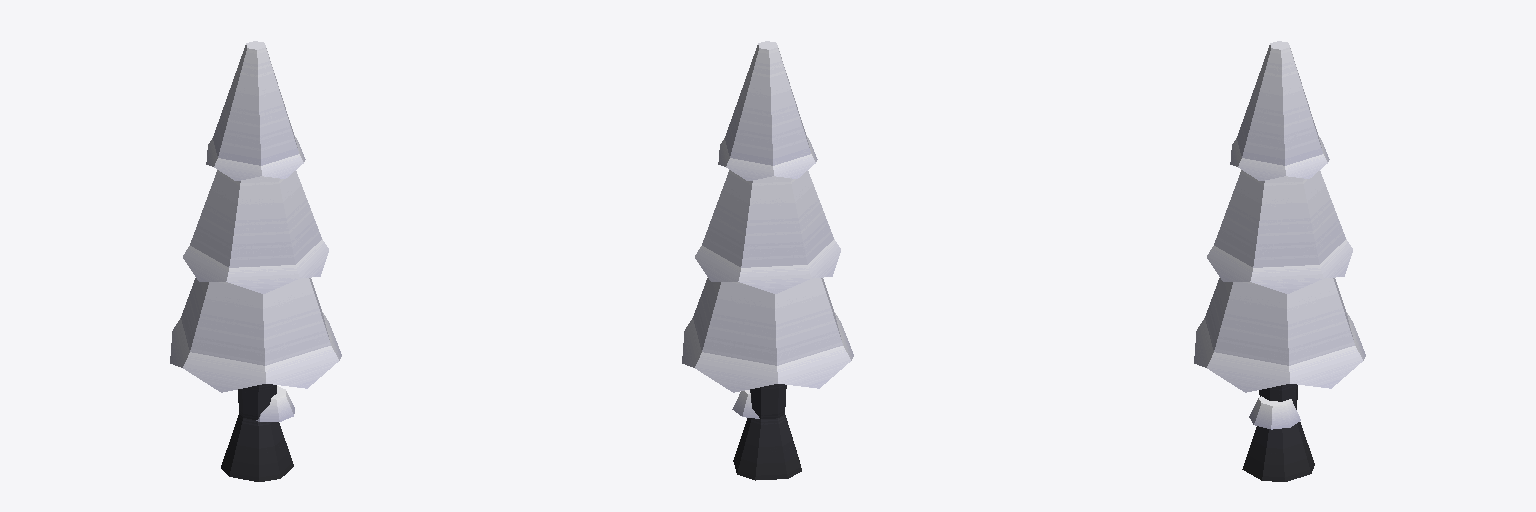
The picture shows the model from 3 angles: view 1: azimuth 30°, elevation 25°; view 2: azimuth 150°, elevation 25°; view 3: azimuth 270°, elevation 25°; orthographic projection.
Parts seen in each view (by area): view 1: tree.022; view 2: tree.022; view 3: tree.022.
Boxes of the visible parts, <box> form: tree.022: <box>170,41,341,481</box>; tree.022: <box>682,41,853,480</box>; tree.022: <box>1194,41,1365,481</box>.
Bounding box in the file's own units: 1.35 × 3.47 × 1.29.
1 materials, 1 textured.